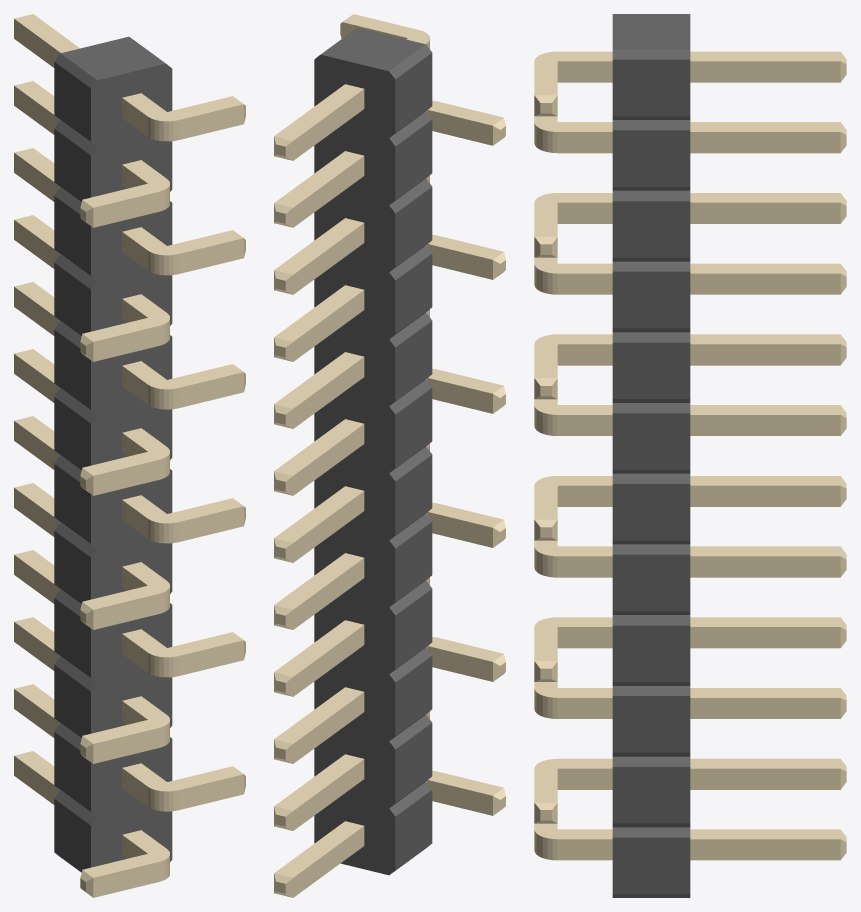
File: PinHeader_1x12_P1.00mm_Vertical_SMD_Pin1Left.glb
3 views of the same model, side by side, from view 1: azimuth 30°, elevation 25°; view 2: azimuth 150°, elevation 25°; view 3: azimuth 270°, elevation 25° (orthographic). The views are drawn at different scales.
Parts seen in each view (by area): view 1: Shape_IndexedFaceSet.003, Shape_IndexedFaceSet.001, Shape_IndexedFaceSet.007, Shape_IndexedFaceSet.019, Shape_IndexedFaceSet.055, Shape_IndexedFaceSet.067, Shape_IndexedFaceSet.031, Shape_IndexedFaceSet.043, Shape_IndexedFaceSet.025, Shape_IndexedFaceSet.037, Shape_IndexedFaceSet.049, Shape_IndexedFaceSet.061 (+69 smaller); view 2: Shape_IndexedFaceSet.004, Shape_IndexedFaceSet.001, Shape_IndexedFaceSet.007, Shape_IndexedFaceSet.019, Shape_IndexedFaceSet.025, Shape_IndexedFaceSet.031, Shape_IndexedFaceSet.037, Shape_IndexedFaceSet.061, Shape_IndexedFaceSet.073, Shape_IndexedFaceSet.013, Shape_IndexedFaceSet.043, Shape_IndexedFaceSet.049 (+51 smaller); view 3: Shape_IndexedFaceSet.002, Shape_IndexedFaceSet.022, Shape_IndexedFaceSet.046, Shape_IndexedFaceSet.070, Shape_IndexedFaceSet.010, Shape_IndexedFaceSet.016, Shape_IndexedFaceSet.034, Shape_IndexedFaceSet.040, Shape_IndexedFaceSet.058, Shape_IndexedFaceSet.028, Shape_IndexedFaceSet.052, Shape_IndexedFaceSet.064 (+61 smaller).
Part boxes in pixels (x1,y1,x2,y2): Shape_IndexedFaceSet.003: (91, 63, 172, 867); Shape_IndexedFaceSet.001: (61, 36, 165, 80); Shape_IndexedFaceSet.007: (54, 62, 90, 141); Shape_IndexedFaceSet.019: (54, 196, 90, 275); Shape_IndexedFaceSet.055: (54, 598, 90, 677); Shape_IndexedFaceSet.067: (54, 732, 90, 811); Shape_IndexedFaceSet.031: (54, 330, 90, 409); Shape_IndexedFaceSet.043: (54, 464, 90, 543); Shape_IndexedFaceSet.025: (54, 263, 90, 335); Shape_IndexedFaceSet.037: (54, 397, 90, 469); Shape_IndexedFaceSet.049: (54, 531, 90, 603); Shape_IndexedFaceSet.061: (54, 665, 90, 737); Shape_IndexedFaceSet.004: (314, 54, 395, 875); Shape_IndexedFaceSet.001: (321, 27, 425, 71); Shape_IndexedFaceSet.007: (395, 53, 432, 132); Shape_IndexedFaceSet.019: (395, 187, 432, 266); Shape_IndexedFaceSet.025: (395, 254, 432, 333); Shape_IndexedFaceSet.031: (395, 321, 432, 400); Shape_IndexedFaceSet.037: (395, 388, 432, 467); Shape_IndexedFaceSet.061: (395, 656, 432, 735); Shape_IndexedFaceSet.073: (395, 790, 432, 869); Shape_IndexedFaceSet.013: (395, 120, 432, 199); Shape_IndexedFaceSet.043: (395, 455, 432, 534); Shape_IndexedFaceSet.049: (395, 522, 432, 601); Shape_IndexedFaceSet.002: (612, 59, 690, 116); Shape_IndexedFaceSet.022: (612, 271, 690, 328); Shape_IndexedFaceSet.046: (612, 554, 690, 611); Shape_IndexedFaceSet.070: (612, 837, 690, 894); Shape_IndexedFaceSet.010: (612, 130, 690, 186); Shape_IndexedFaceSet.016: (612, 201, 690, 257); Shape_IndexedFaceSet.034: (612, 413, 690, 469); Shape_IndexedFaceSet.040: (612, 484, 690, 540); Shape_IndexedFaceSet.058: (612, 696, 690, 752); Shape_IndexedFaceSet.028: (612, 342, 690, 398); Shape_IndexedFaceSet.052: (612, 625, 690, 681); Shape_IndexedFaceSet.064: (612, 767, 690, 823).
Bounding box in the file's own units: 0.984 × 4.72 × 1.58.
